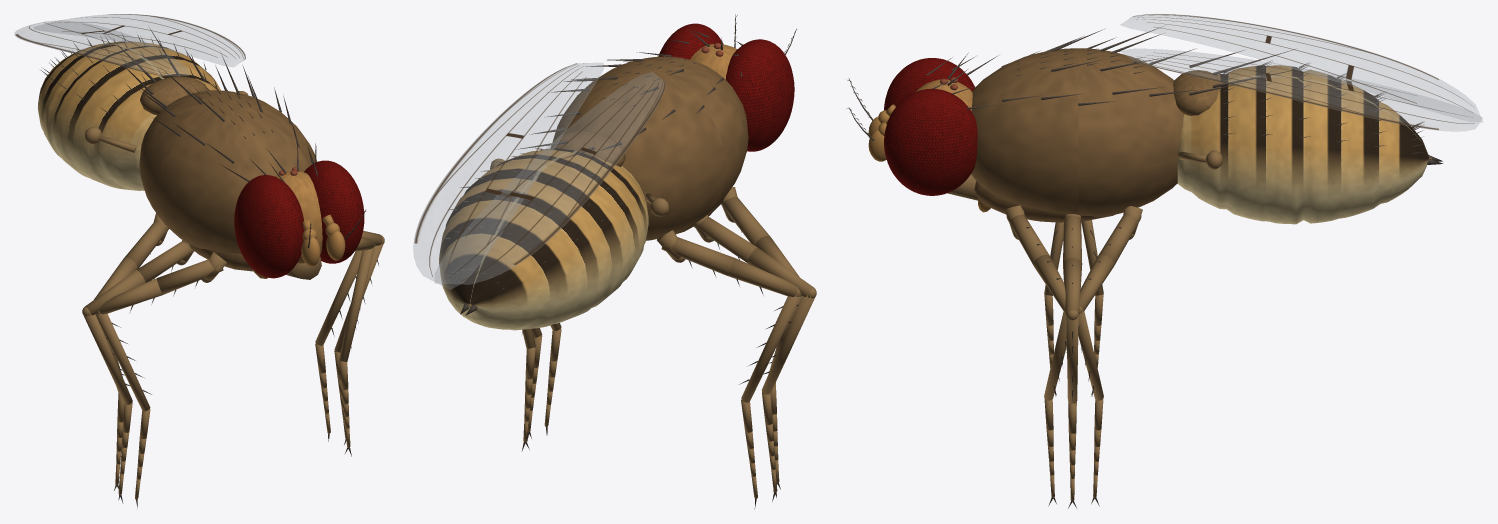
Rendered from fly_female.glb.
3 views of the same model, side by side, from view 1: azimuth 30°, elevation 25°; view 2: azimuth 150°, elevation 25°; view 3: azimuth 270°, elevation 25° (orthographic). The views are drawn at different scales.
Visible parts, largest first — view 1: thorax, abdomen_mesh, eyes, wing_mesh_R, wing_mesh_L, femur_mesh_L1, tibia_mesh_R1, tibia_mesh_L1, femur_mesh_L2, tibia_mesh_L2, tibia_mesh_R3, thorax_bristles (+8 smaller); view 2: abdomen_mesh, thorax, wing_mesh_R, wing_mesh_L, eyes, femur_mesh_L3, femur_mesh_L2, tibia_mesh_L3, tibia_mesh_L2, femur_mesh_L1, thorax_bristles, tibia_mesh_R3 (+6 smaller); view 3: thorax, abdomen_mesh, wing_mesh_L, wing_mesh_R, eyes, thorax_bristles, femur_mesh_R3, femur_mesh_R2, femur_mesh_R1, tibia_mesh_R2, tibia_mesh_R3, tibia_mesh_R1 (+3 smaller).
Part boxes in pixels (x1=…): thorax: x1=139, y1=76, x2=317, y2=271; abdomen_mesh: x1=38, y1=41, x2=220, y2=190; eyes: x1=234, y1=160, x2=364, y2=278; wing_mesh_R: x1=34, y1=14, x2=245, y2=66; wing_mesh_L: x1=14, y1=20, x2=189, y2=76; femur_mesh_L1: x1=96, y1=259, x2=223, y2=314; tibia_mesh_R1: x1=339, y1=246, x2=374, y2=456; tibia_mesh_L1: x1=95, y1=312, x2=151, y2=507; femur_mesh_L2: x1=82, y1=241, x2=194, y2=316; tibia_mesh_L2: x1=84, y1=314, x2=132, y2=503; tibia_mesh_R3: x1=315, y1=251, x2=361, y2=441; thorax_bristles: x1=108, y1=27, x2=299, y2=163; abdomen_mesh: x1=439, y1=148, x2=648, y2=330; thorax: x1=550, y1=56, x2=748, y2=240; wing_mesh_R: x1=413, y1=63, x2=603, y2=289; wing_mesh_L: x1=435, y1=72, x2=665, y2=284; eyes: x1=658, y1=23, x2=794, y2=151; femur_mesh_L3: x1=661, y1=237, x2=801, y2=296; femur_mesh_L2: x1=693, y1=216, x2=816, y2=298; tibia_mesh_L3: x1=739, y1=295, x2=800, y2=509; tibia_mesh_L2: x1=762, y1=295, x2=814, y2=502; femur_mesh_L1: x1=721, y1=196, x2=799, y2=276; thorax_bristles: x1=518, y1=56, x2=723, y2=159; tibia_mesh_R3: x1=521, y1=328, x2=535, y2=451; thorax: x1=971, y1=48, x2=1220, y2=222; abdomen_mesh: x1=1177, y1=65, x2=1431, y2=224; wing_mesh_L: x1=1121, y1=14, x2=1482, y2=122; wing_mesh_R: x1=1120, y1=48, x2=1482, y2=131; eyes: x1=884, y1=58, x2=977, y2=195; thorax_bristles: x1=1001, y1=26, x2=1295, y2=105; femur_mesh_R3: x1=1079, y1=214, x2=1141, y2=313; femur_mesh_R2: x1=1063, y1=215, x2=1082, y2=320; femur_mesh_R1: x1=1006, y1=214, x2=1065, y2=311; tibia_mesh_R2: x1=1066, y1=315, x2=1078, y2=508; tibia_mesh_R3: x1=1078, y1=310, x2=1103, y2=506; tibia_mesh_R1: x1=1044, y1=310, x2=1066, y2=506.
Bounding box in the file's own units: 2.54 × 3.13 × 4.36.
Materials: 8 (5 with a texture image).
